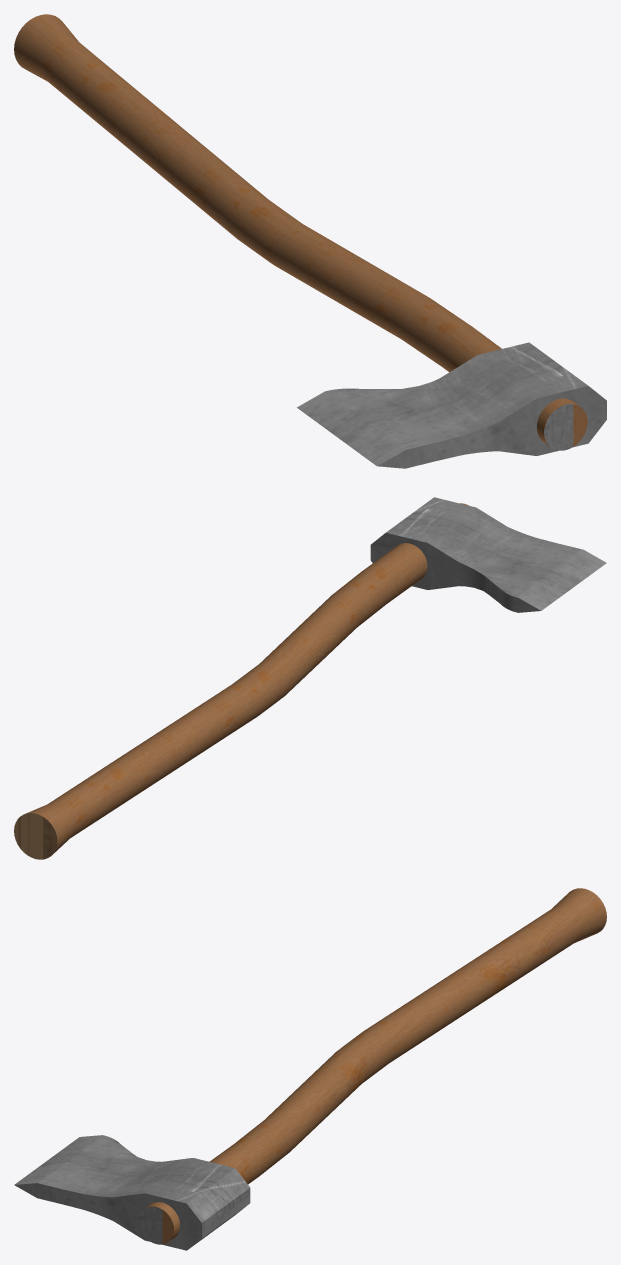
Rendered from Simple_Axe.fbx.
3 views of the same model, one above another, from view 1: azimuth 30°, elevation 25°; view 2: azimuth 150°, elevation 25°; view 3: azimuth 330°, elevation 25° (orthographic). The views are drawn at different scales.
Visible parts, largest first — view 1: Cube.003; view 2: Cube.003; view 3: Cube.003.
Part boxes in pixels (<box>): Cube.003: <box>14,14,606,468</box>; Cube.003: <box>14,497,606,859</box>; Cube.003: <box>14,888,606,1250</box>.
Size of the model in its own units: 15.54 by 3.73 by 61.44.
